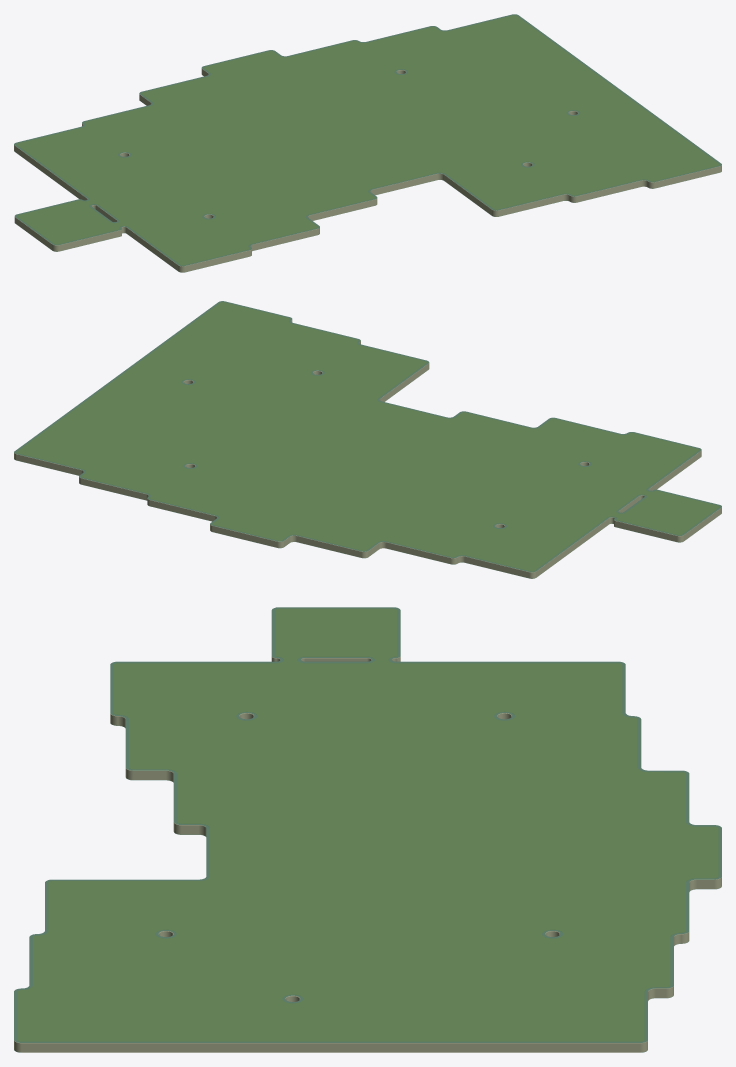
File: board.glb
3 views of the same model, one above another, from view 1: azimuth 30°, elevation 25°; view 2: azimuth 150°, elevation 25°; view 3: azimuth 270°, elevation 25° (orthographic). The views are drawn at different scales.
Visible parts, largest first — view 1: board_soldermask (×2), board_copper, board_PCB; view 2: board_soldermask (×2), board_copper, board_PCB; view 3: board_soldermask, board_copper, board_PCB.
Boxes of the visible parts, x1,y1,x2,y2 form: board_soldermask (×2): [14, 14, 721, 272]; board_copper: [17, 16, 718, 264]; board_PCB: [14, 15, 721, 272]; board_soldermask (×2): [14, 301, 721, 578]; board_copper: [17, 302, 718, 570]; board_PCB: [14, 302, 721, 578]; board_soldermask: [14, 607, 721, 1042]; board_copper: [18, 609, 717, 1040]; board_PCB: [14, 608, 721, 1052].
Size of the model in its own units: 0.1524 by 0.00161 by 0.1046.
